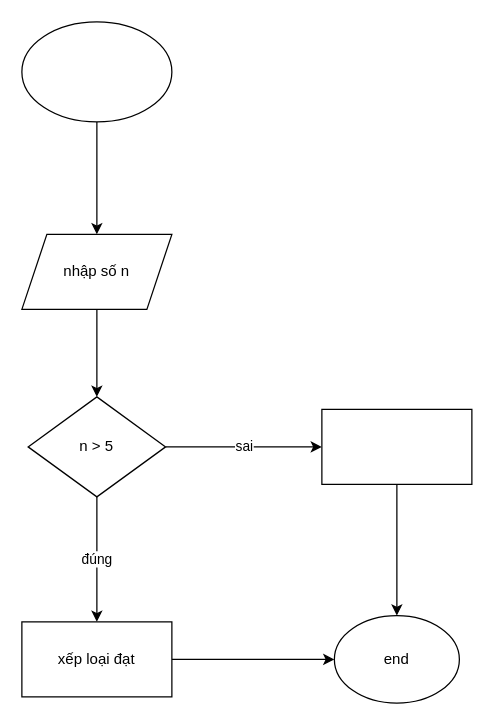
The diagram is 494 pixels wide and 725 high, and some of its shapes have lost their labels. The centre of each missing label's shape, as x and y in pixels:
"bắt đầu" belongs at (x=96, y=71).
"xếp loại không đạt" belongs at (x=396, y=446).
